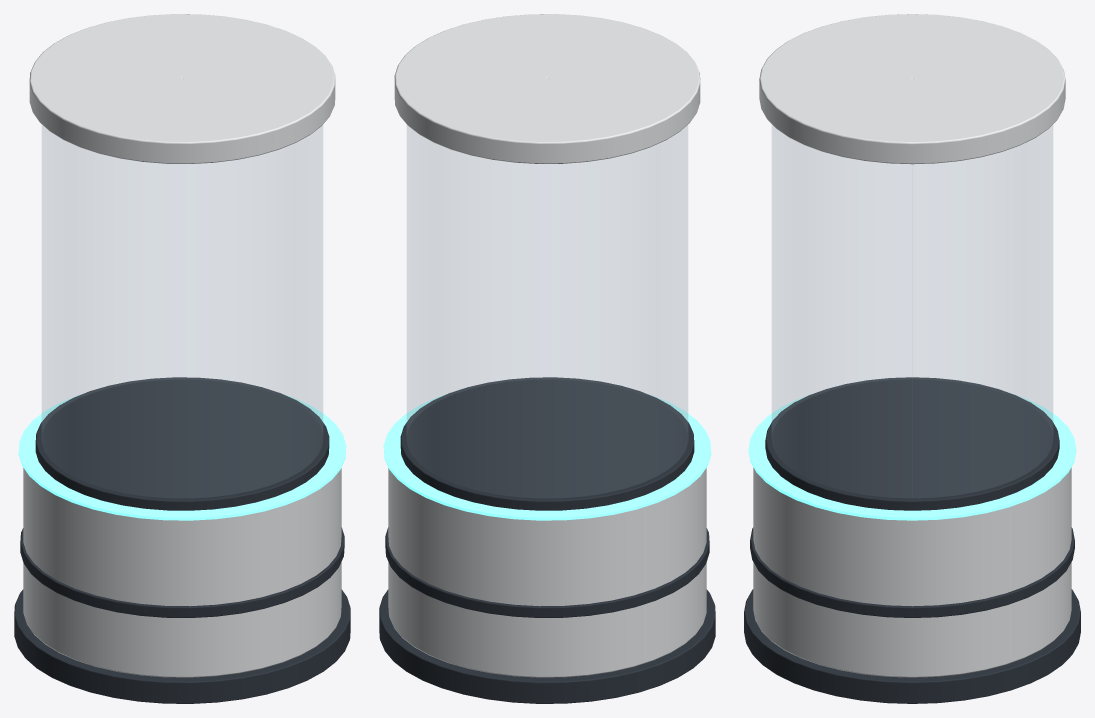
Rendered from GalleryCase.fbx.
3 renders of one model, left to right at view 1: azimuth 30°, elevation 25°; view 2: azimuth 150°, elevation 25°; view 3: azimuth 270°, elevation 25°, orthographic.
Visible parts, largest first — view 1: PROP_GalleryCase, PROP_GalleryGlass; view 2: PROP_GalleryCase, PROP_GalleryGlass; view 3: PROP_GalleryCase, PROP_GalleryGlass.
Boxes of the visible parts, x1,y1,x2,y2 form: PROP_GalleryCase: (14,14,350,703); PROP_GalleryGlass: (42,125,322,497); PROP_GalleryCase: (379,14,715,703); PROP_GalleryGlass: (407,125,687,497); PROP_GalleryCase: (744,14,1080,703); PROP_GalleryGlass: (772,125,1052,497).
Bounding box in the file's own units: 1.1 × 2 × 1.1.
